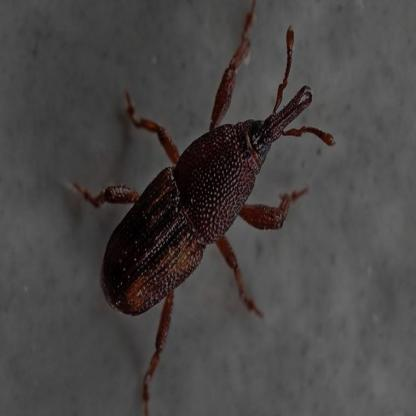rice-bug: (95, 82, 315, 330)
